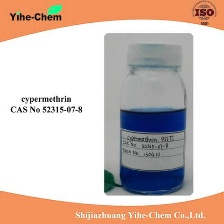insecticide: (114, 39, 189, 196)
